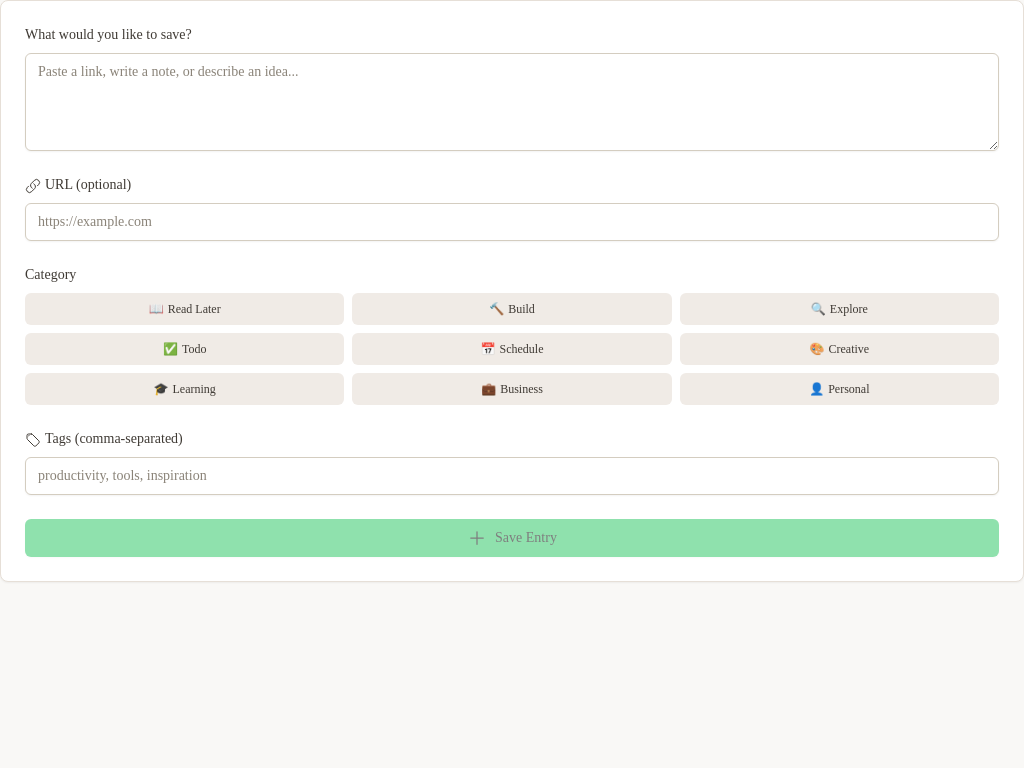
Scenario: EntryForm › displays validation error for empty content
The width and height of the screenshot is (1024, 768).
// Type and clear content
Type "a" into the text box with placeholder "Paste a link, write a note, or describe an idea...". click: (512, 102)
box: x1=25 y1=53 x2=999 y2=151
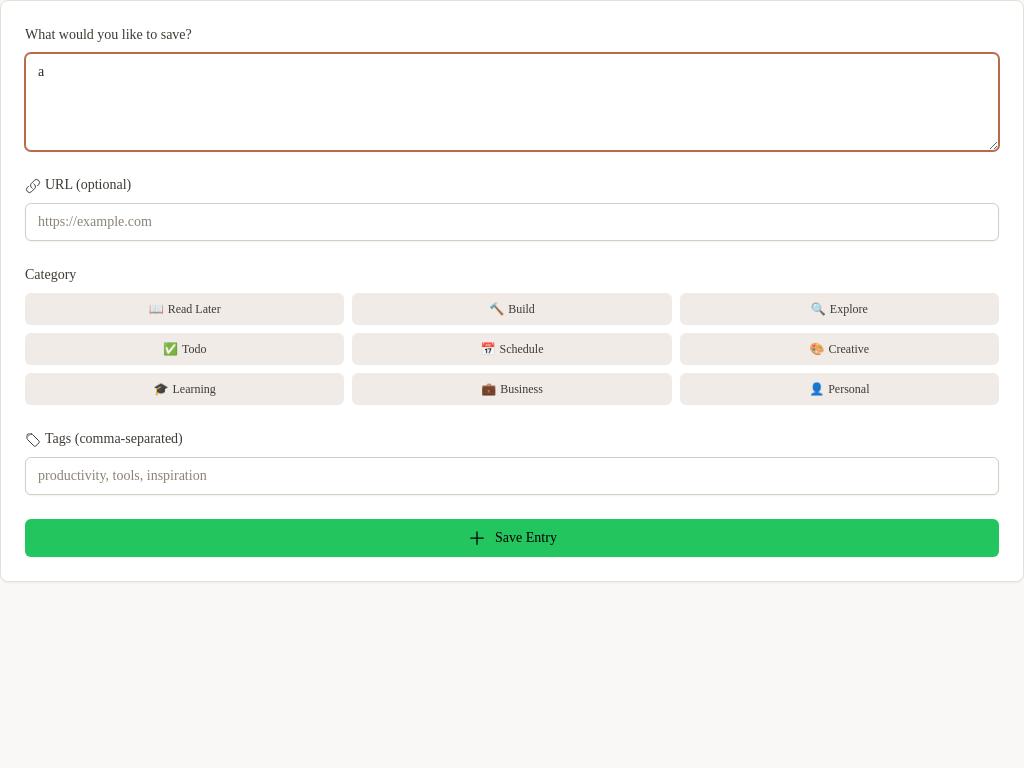
Clear the text box with placeholder "Paste a link, write a note, or describe an idea...". click: (512, 102)
box: x1=25 y1=53 x2=999 y2=151
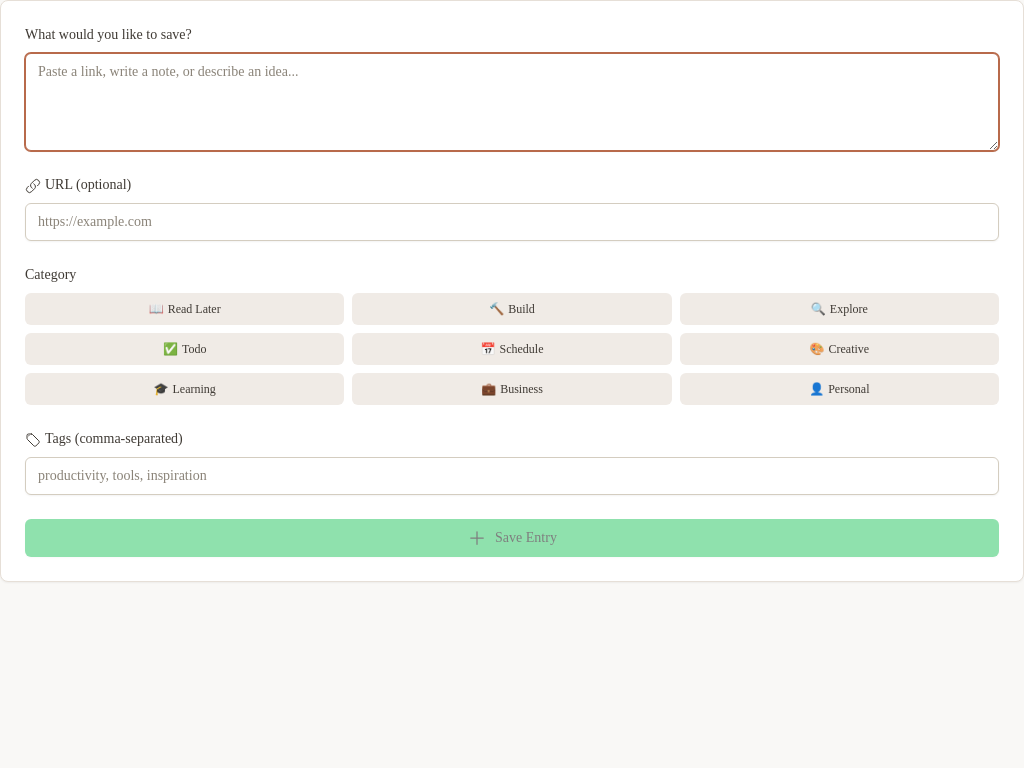
Check: the button "Save Entry" is disabled, box x1=25 y1=519 x2=999 y2=557
